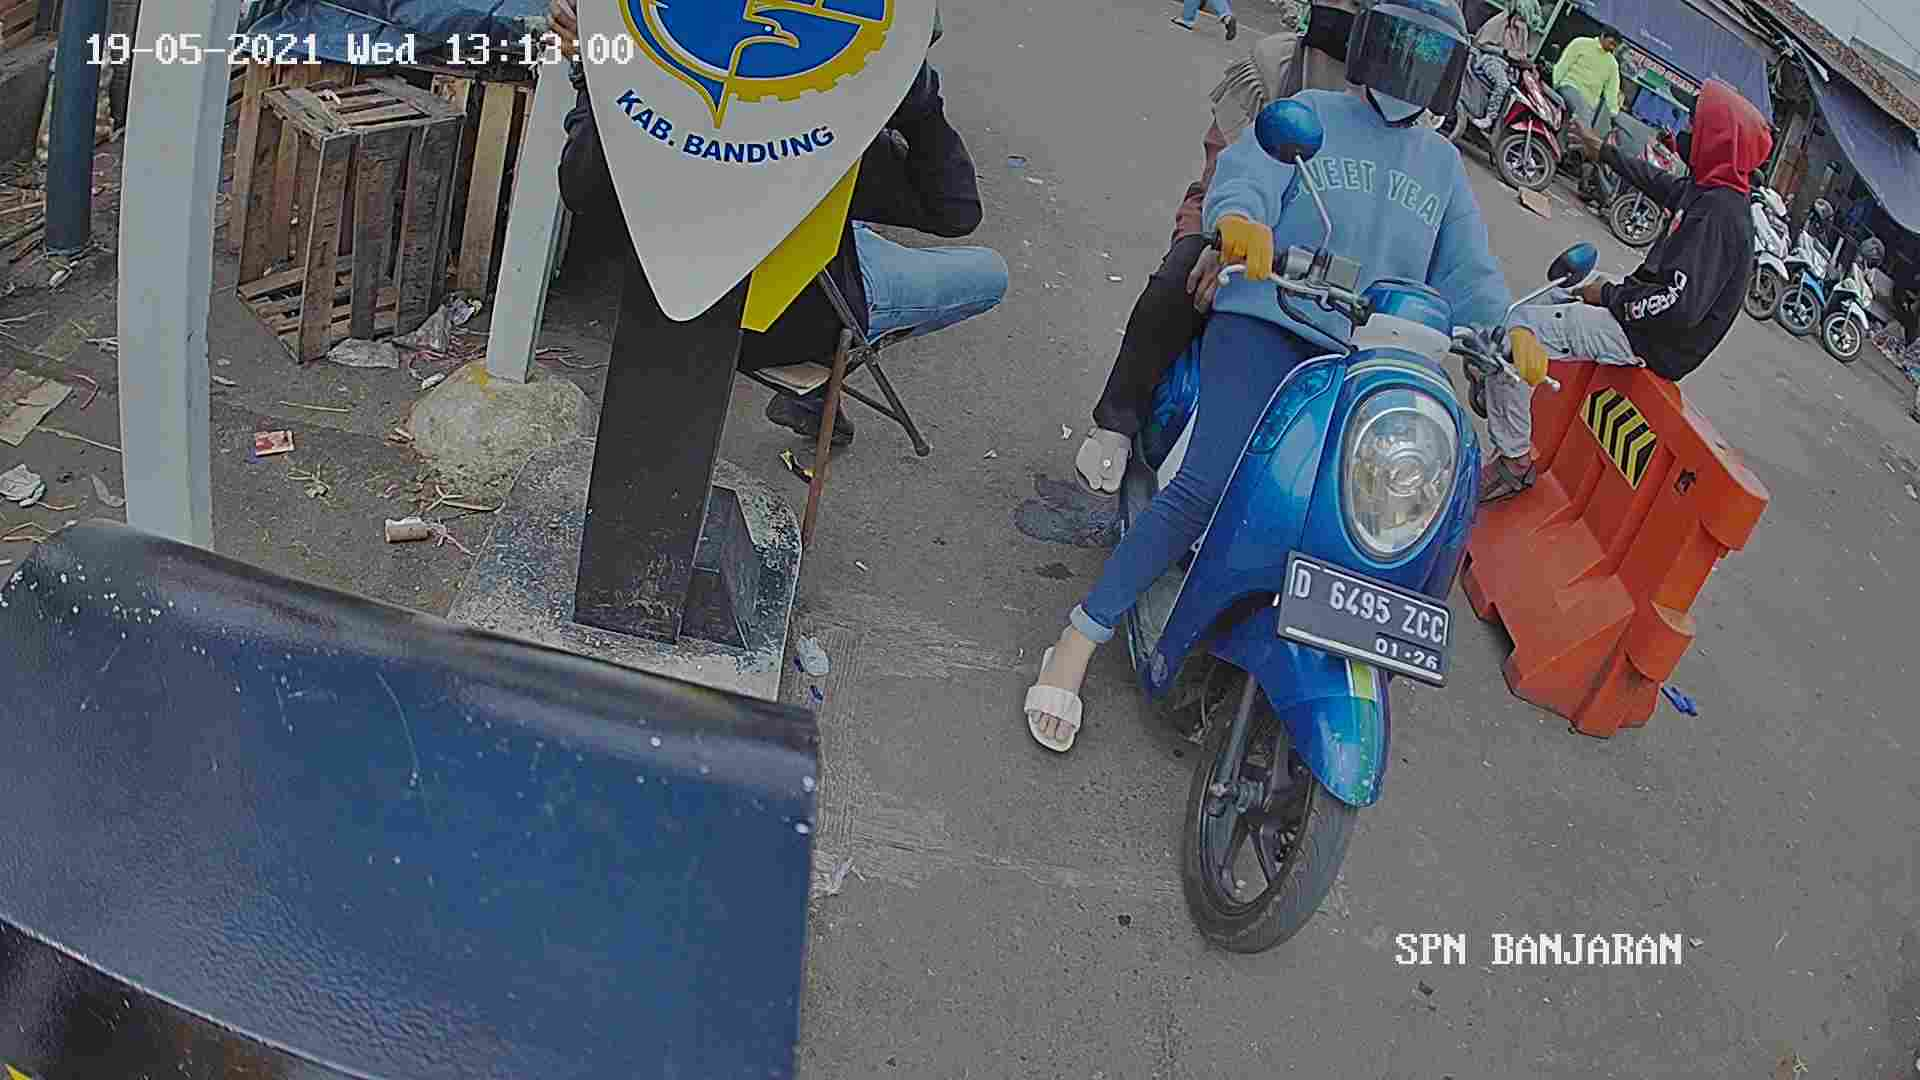motor: (1145, 237, 1425, 951)
